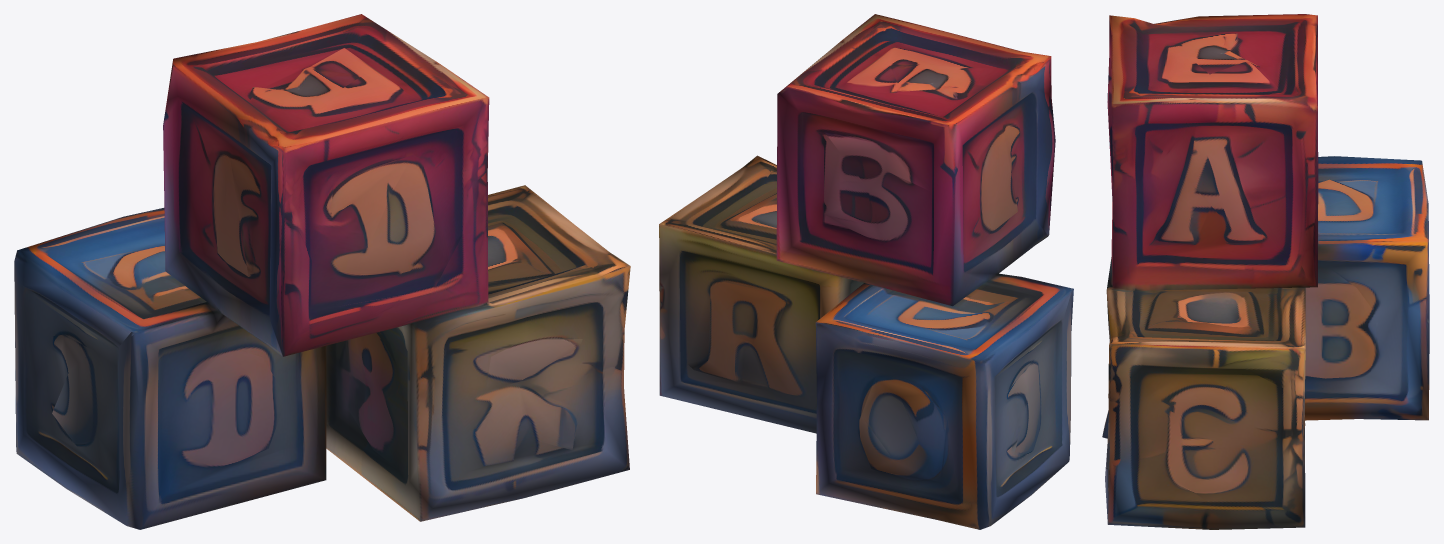
File: wooden+letter+blocks+3d+model.obj
3 renders of one model, left to right at view 1: azimuth 30°, elevation 25°; view 2: azimuth 150°, elevation 25°; view 3: azimuth 270°, elevation 25°, orthographic. The views are drawn at different scales.
Parts seen in each view (by area): view 1: tripo_node_01350584-2be6-4158-a30f-7ac8bf2580b2; view 2: tripo_node_01350584-2be6-4158-a30f-7ac8bf2580b2; view 3: tripo_node_01350584-2be6-4158-a30f-7ac8bf2580b2.
Boxes of the visible parts, x1,y1,x2,y2 form: tripo_node_01350584-2be6-4158-a30f-7ac8bf2580b2: (14,14,630,529); tripo_node_01350584-2be6-4158-a30f-7ac8bf2580b2: (659,14,1073,529); tripo_node_01350584-2be6-4158-a30f-7ac8bf2580b2: (1102,14,1429,529).
Size of the model in its own units: 0.9977 by 0.8718 by 0.7072.
1 material, 1 textured.
